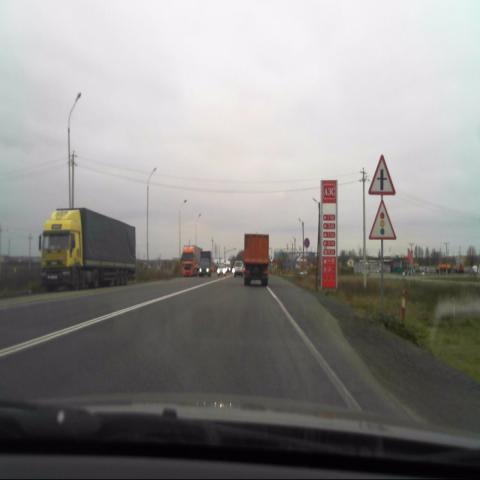1_8: (368, 197, 396, 239)
2_3: (367, 154, 395, 195)
